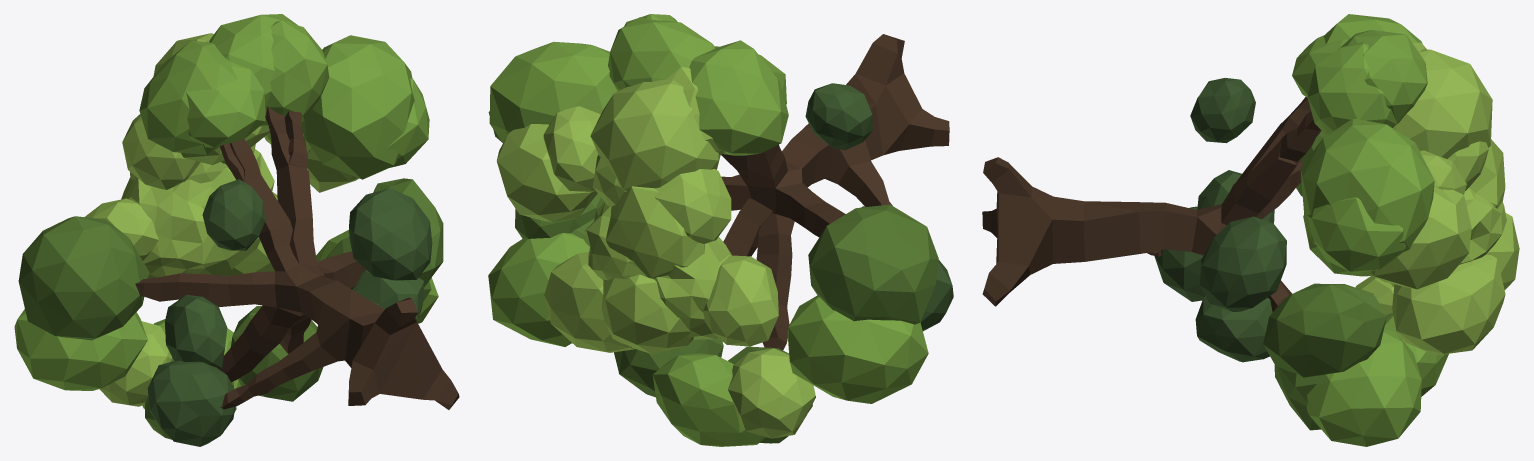
The model's file is TreeOakGreenB3.fbx.
The picture shows the model from 3 angles, left to right: view 1: azimuth 30°, elevation 25°; view 2: azimuth 150°, elevation 25°; view 3: azimuth 270°, elevation 25°; orthographic projection. The views are drawn at different scales.
Visible parts, largest first — view 1: M_Tree_Leaf_Light.001, M_Tree_Bark.001, M_Tree_Leaf_Dark.001, M_Tree_Leaf_Pale.001, M_Tree_Leaf_Mid.001; view 2: M_Tree_Leaf_Pale.001, M_Tree_Leaf_Light.001, M_Tree_Bark.001, M_Tree_Leaf_Mid.001, M_Tree_Leaf_Dark.001; view 3: M_Tree_Leaf_Light.001, M_Tree_Leaf_Pale.001, M_Tree_Bark.001, M_Tree_Leaf_Dark.001, M_Tree_Leaf_Mid.001.
Boxes of the visible parts, <box> form: M_Tree_Leaf_Light.001: <box>14,14,438,408</box>; M_Tree_Bark.001: <box>135,107,459,409</box>; M_Tree_Leaf_Dark.001: <box>147,179,432,446</box>; M_Tree_Leaf_Pale.001: <box>84,33,358,406</box>; M_Tree_Leaf_Mid.001: <box>18,178,443,439</box>; M_Tree_Leaf_Pale.001: <box>496,67,815,438</box>; M_Tree_Leaf_Light.001: <box>488,14,928,446</box>; M_Tree_Bark.001: <box>721,34,949,350</box>; M_Tree_Leaf_Mid.001: <box>515,193,938,443</box>; M_Tree_Leaf_Dark.001: <box>805,83,953,331</box>; M_Tree_Leaf_Light.001: <box>1292,14,1448,446</box>; M_Tree_Leaf_Pale.001: <box>1355,42,1519,355</box>; M_Tree_Bark.001: <box>982,97,1321,312</box>; M_Tree_Leaf_Dark.001: <box>1154,78,1286,362</box>; M_Tree_Leaf_Mid.001: <box>1263,131,1386,430</box>.
Bounding box in the file's own units: 2710 × 2512 × 2995.
